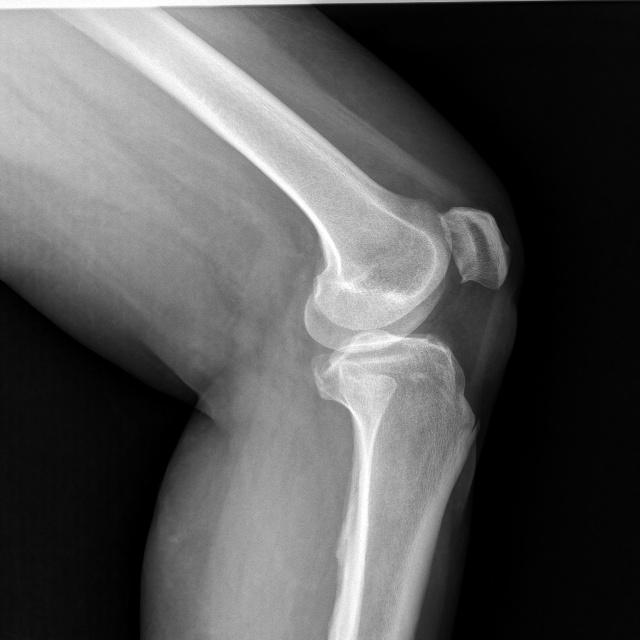Knee: (300, 200, 511, 425)
